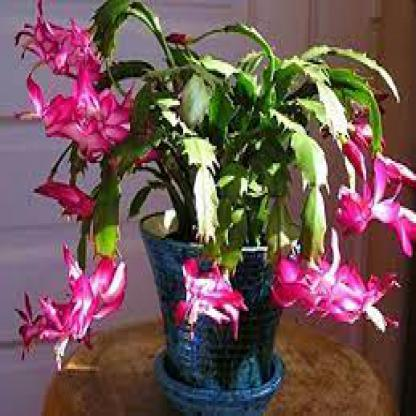Aglonema: (85, 125, 388, 315), (10, 9, 184, 93)
